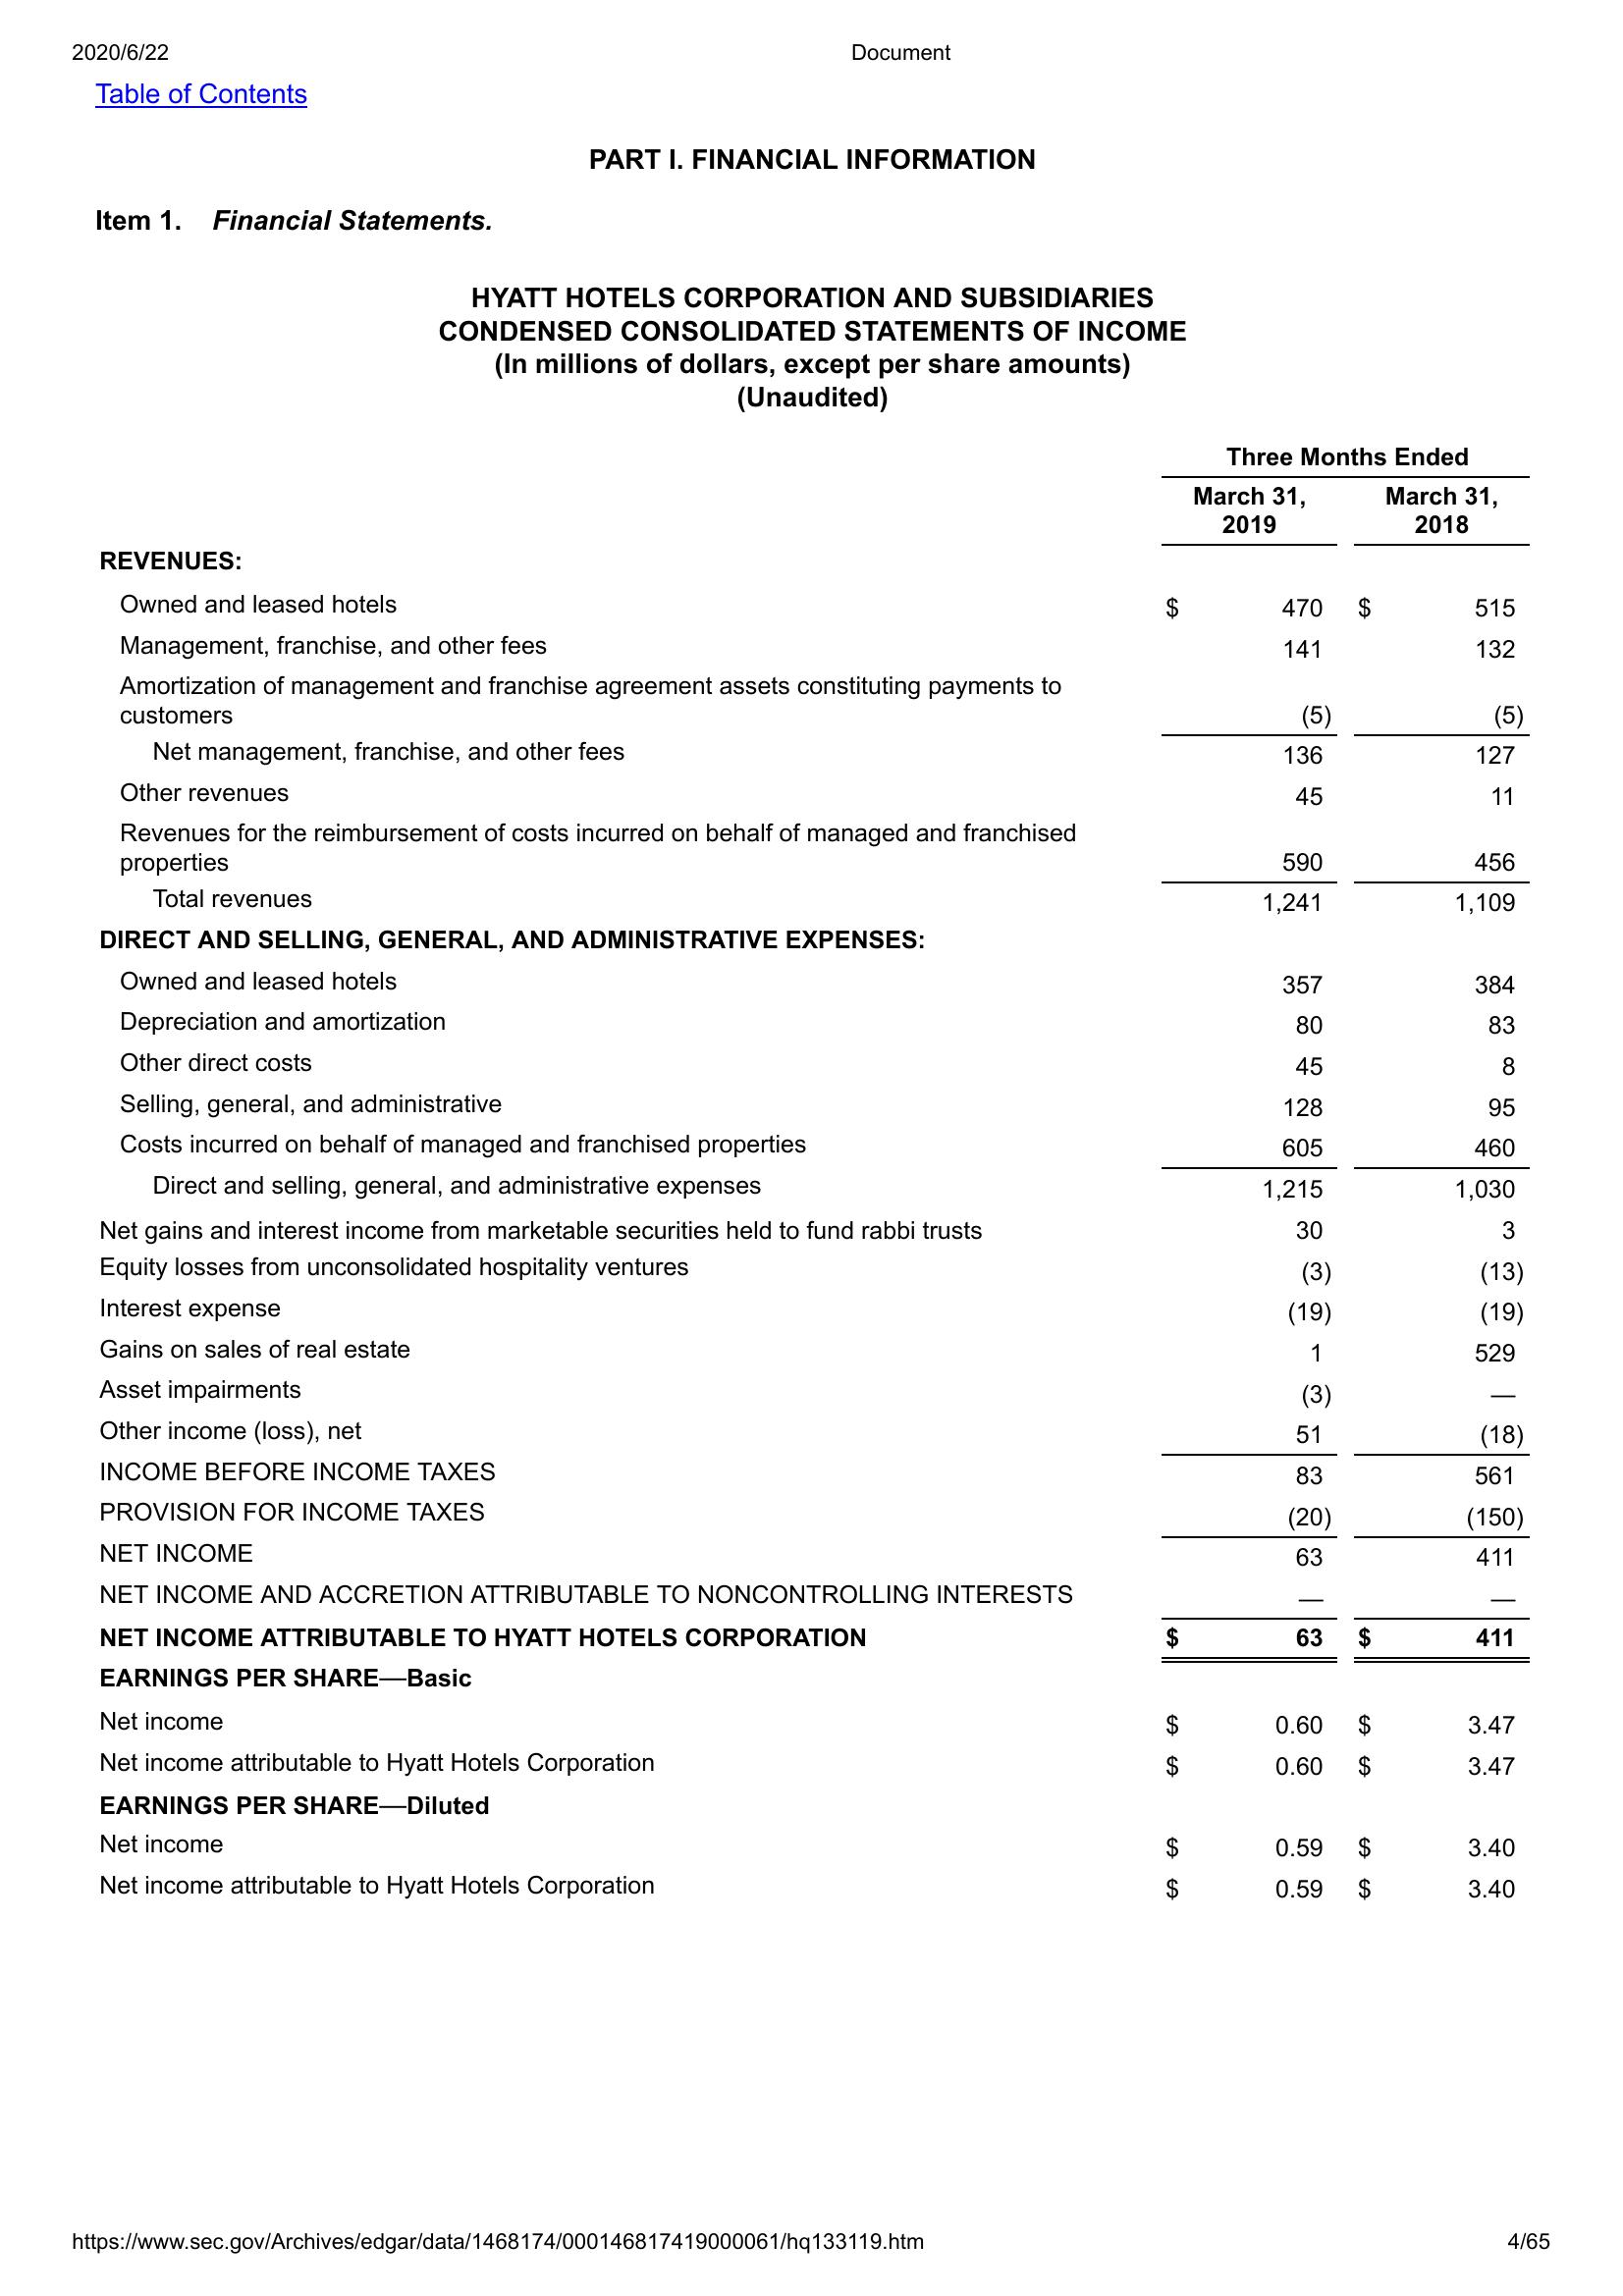table: (91, 439, 1539, 1913)
